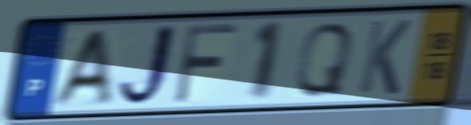1: (247, 19, 286, 105)
A: (46, 26, 115, 110)
F: (170, 22, 242, 107)
J: (114, 21, 180, 111)
K: (355, 18, 414, 98)
Q: (291, 20, 358, 99)
